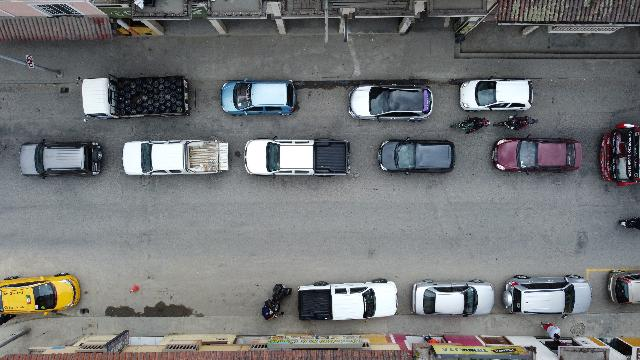Vehiculo: (79, 72, 197, 120), (242, 133, 356, 181), (294, 278, 402, 320), (504, 272, 592, 318), (0, 273, 80, 323), (122, 140, 228, 176), (412, 276, 496, 320), (492, 136, 582, 174), (18, 139, 102, 178), (348, 84, 434, 122), (222, 78, 296, 115), (379, 138, 455, 174), (460, 78, 532, 112), (606, 266, 640, 310)
